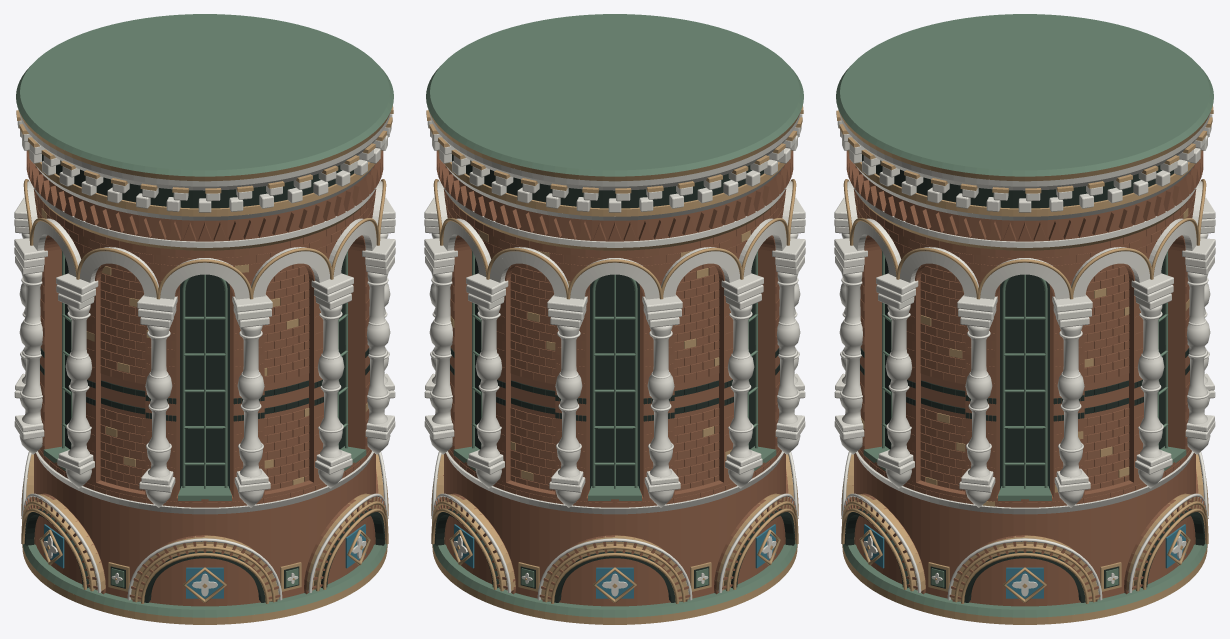
Rendered from corner-drum.draco.glb.
The picture shows the model from 3 angles, left to right: view 1: azimuth 30°, elevation 25°; view 2: azimuth 150°, elevation 25°; view 3: azimuth 270°, elevation 25°; orthographic projection.
Parts seen in each view (by area): view 1: CornerDrum_brick, CornerDrum_green, CornerDrum_stone, CornerDrum_buff, CornerDrum_dark, CornerDrum_blue; view 2: CornerDrum_brick, CornerDrum_green, CornerDrum_stone, CornerDrum_buff, CornerDrum_dark, CornerDrum_blue; view 3: CornerDrum_brick, CornerDrum_green, CornerDrum_stone, CornerDrum_buff, CornerDrum_dark, CornerDrum_blue.
Boxes of the visible parts, bbox=[...] form: CornerDrum_brick: bbox=[23, 150, 386, 606]; CornerDrum_green: bbox=[16, 14, 393, 617]; CornerDrum_stone: bbox=[14, 111, 395, 600]; CornerDrum_buff: bbox=[16, 105, 393, 624]; CornerDrum_dark: bbox=[25, 154, 384, 602]; CornerDrum_blue: bbox=[44, 524, 365, 598]; CornerDrum_brick: bbox=[433, 150, 796, 606]; CornerDrum_green: bbox=[426, 14, 803, 617]; CornerDrum_stone: bbox=[424, 111, 805, 600]; CornerDrum_buff: bbox=[426, 105, 803, 624]; CornerDrum_dark: bbox=[435, 154, 794, 602]; CornerDrum_blue: bbox=[454, 524, 775, 598]; CornerDrum_brick: bbox=[843, 150, 1206, 606]; CornerDrum_green: bbox=[836, 14, 1213, 617]; CornerDrum_stone: bbox=[834, 110, 1215, 600]; CornerDrum_buff: bbox=[836, 105, 1213, 624]; CornerDrum_dark: bbox=[845, 154, 1204, 602]; CornerDrum_blue: bbox=[864, 524, 1185, 598].
Size of the model in its own units: 7.58 by 10 by 7.58.
